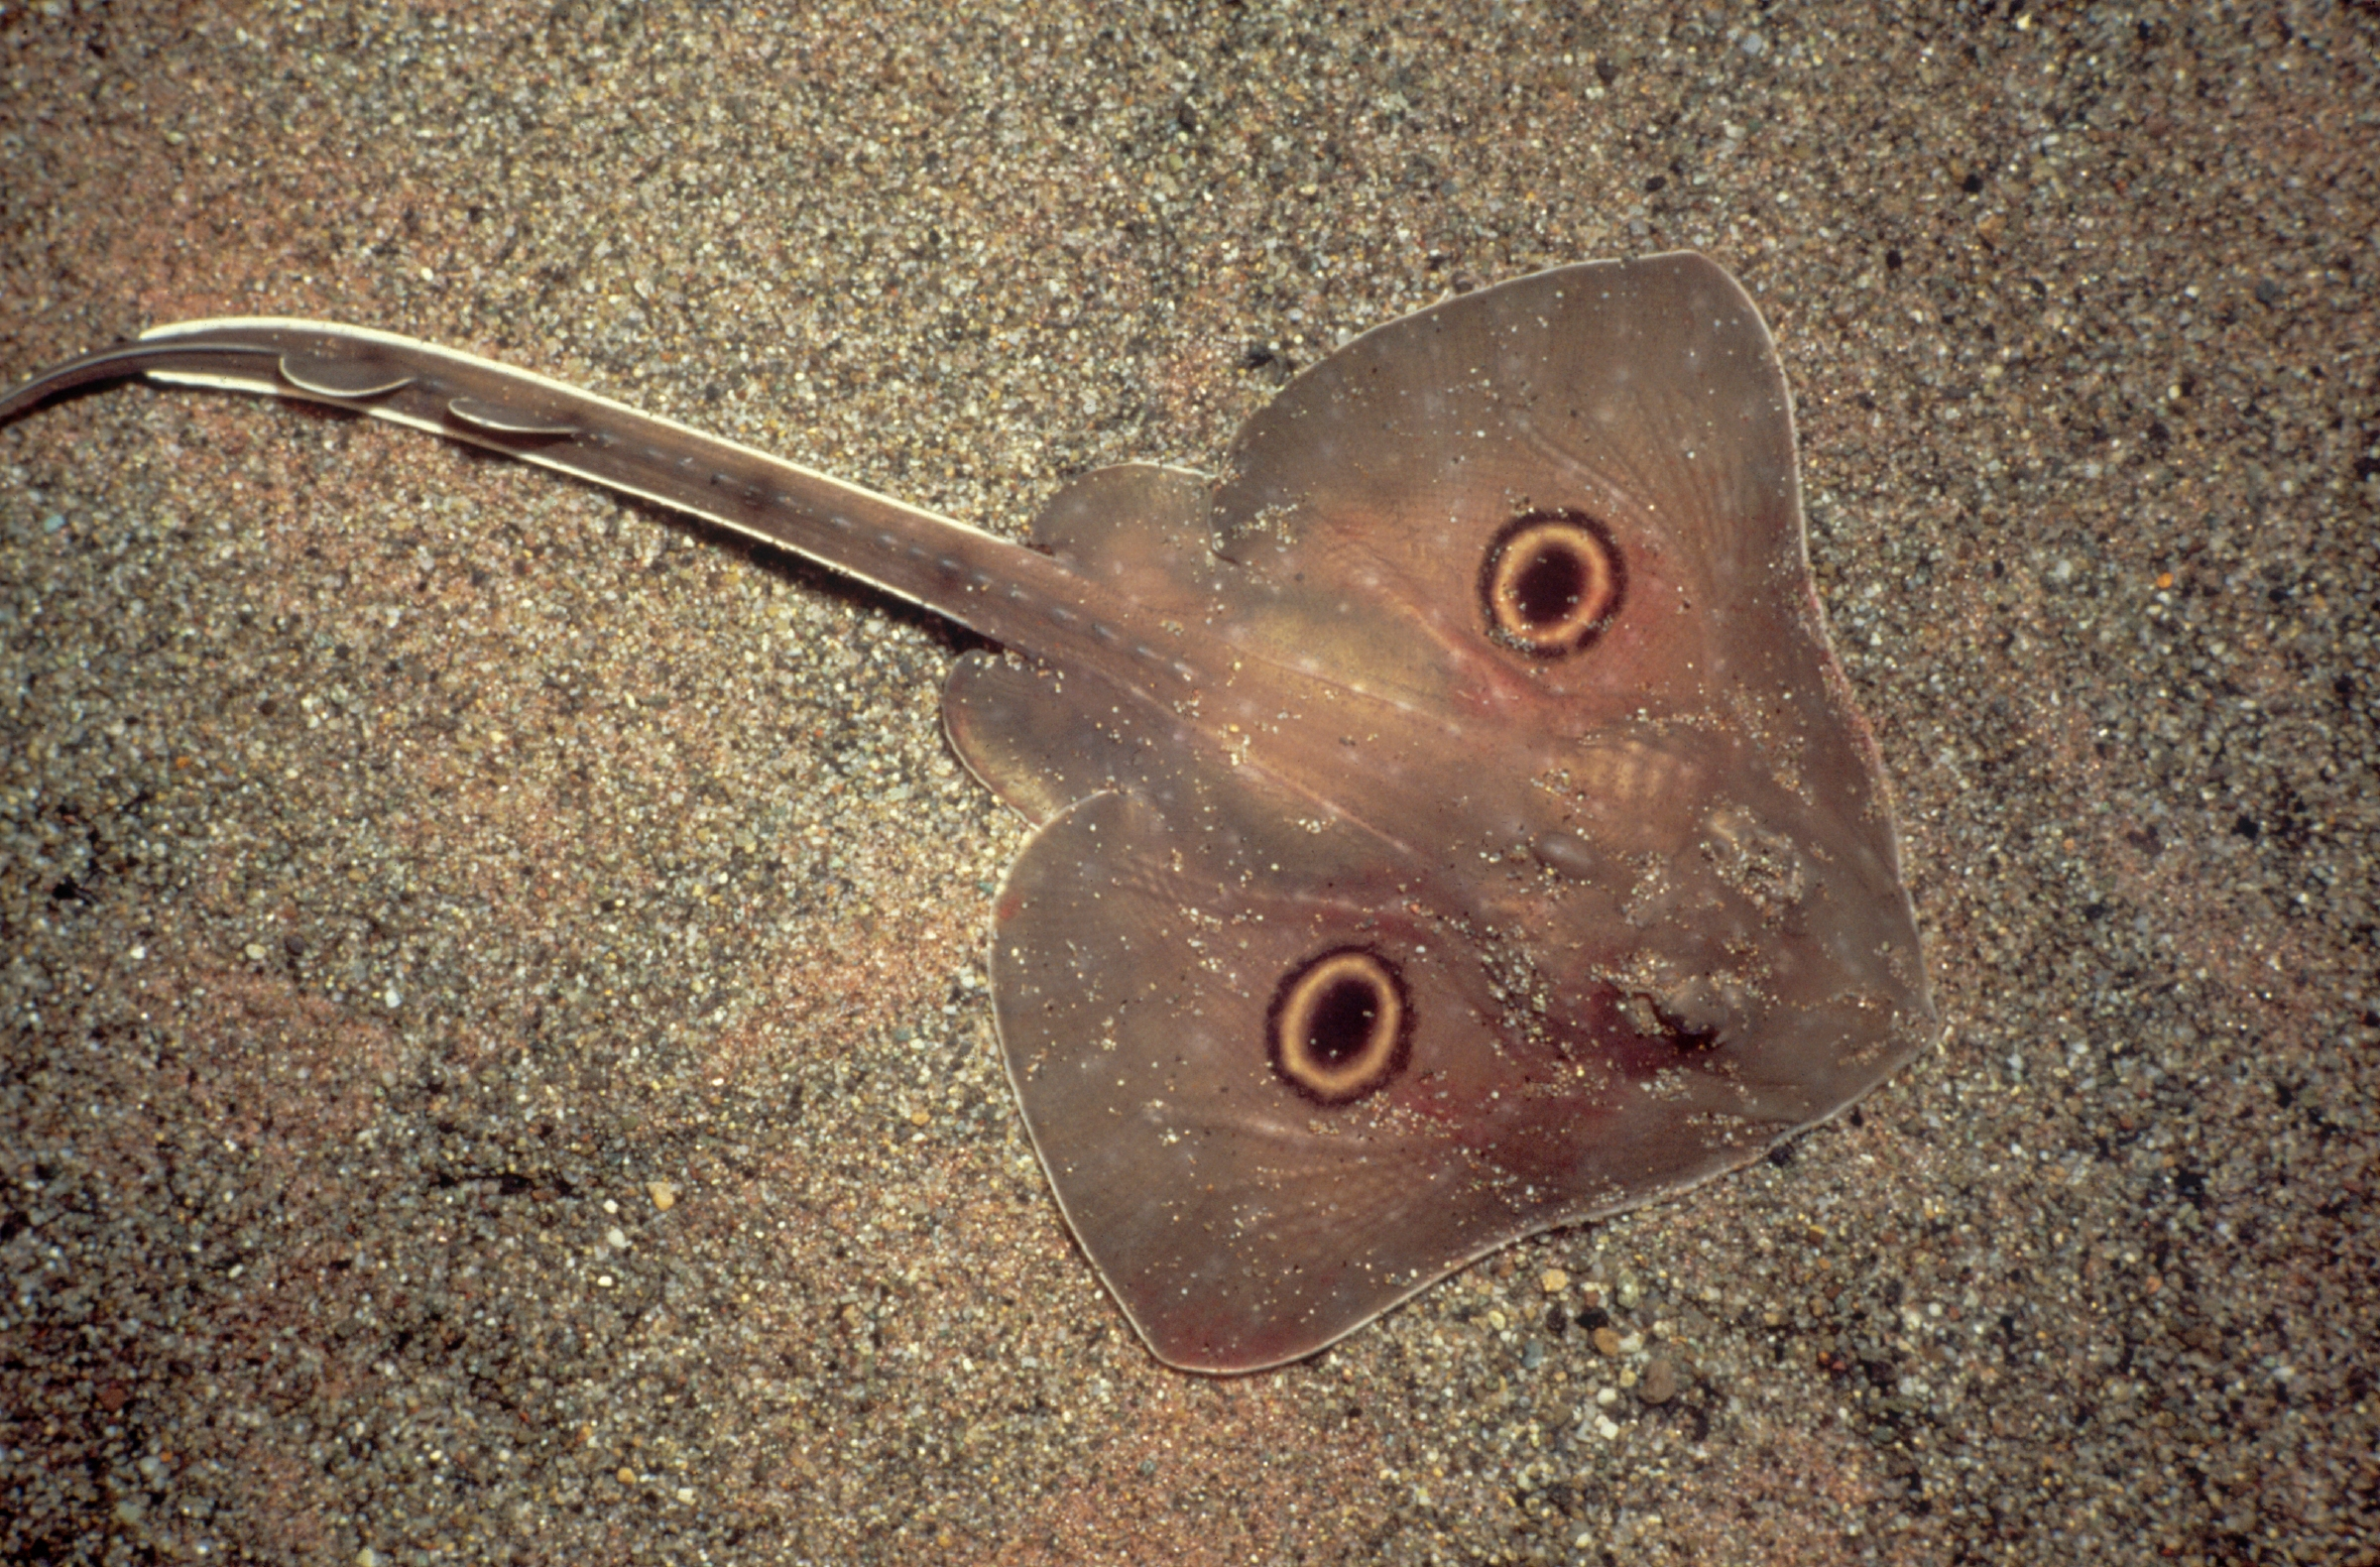Big Skate: (5, 56, 2029, 1413)
